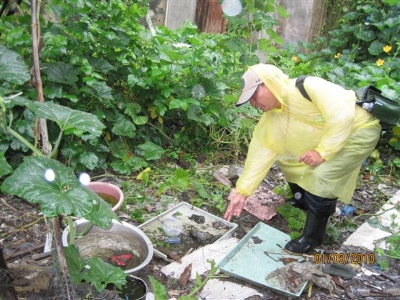bowl: (61, 217, 154, 274)
plate: (216, 219, 324, 297), (138, 202, 239, 262)
